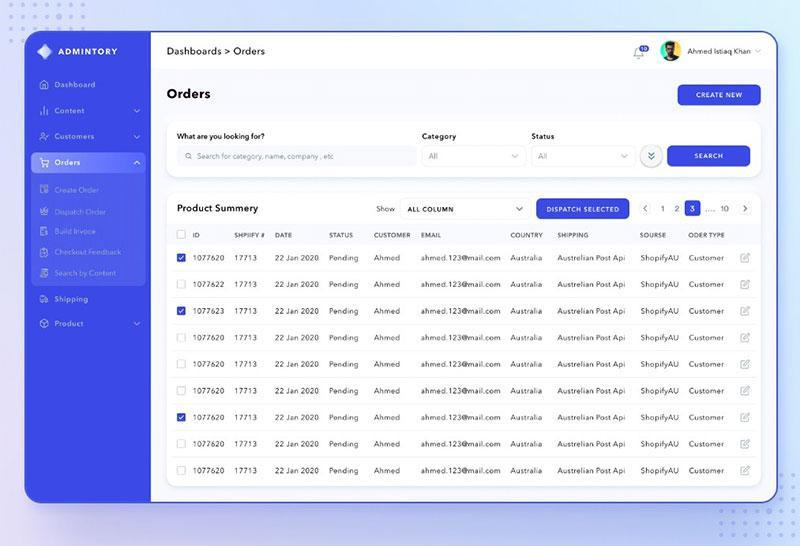button: (537, 199, 632, 221), (678, 84, 762, 107), (668, 146, 752, 168), (740, 333, 752, 345), (740, 412, 752, 424), (740, 465, 752, 477), (740, 360, 753, 371), (740, 386, 752, 397), (740, 440, 752, 451)
checkbox: (177, 254, 187, 263), (178, 280, 187, 289), (178, 231, 186, 240), (178, 308, 187, 316), (178, 414, 187, 422), (178, 441, 186, 450), (178, 467, 186, 476), (178, 361, 186, 369), (178, 387, 186, 395), (178, 335, 186, 342)
dropdown: (400, 198, 531, 220), (32, 154, 147, 174), (534, 147, 636, 167), (425, 147, 527, 165)
icon: (633, 45, 650, 62), (740, 253, 753, 265), (39, 156, 51, 169), (39, 132, 52, 144), (40, 183, 51, 197), (39, 105, 50, 119), (740, 306, 752, 318), (39, 294, 51, 306), (40, 247, 51, 260), (41, 267, 51, 281), (40, 226, 50, 240), (39, 80, 50, 92), (741, 280, 752, 291), (40, 319, 51, 330), (40, 207, 51, 218)
input: (180, 148, 419, 167)
label: (175, 129, 273, 146), (177, 204, 261, 214), (167, 89, 214, 101), (422, 132, 459, 142), (531, 132, 558, 143), (376, 204, 398, 213)
table: (169, 198, 762, 487)
